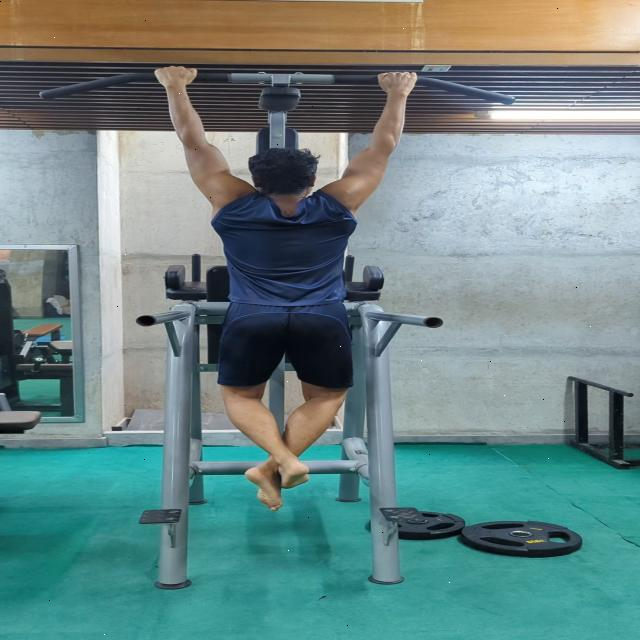Normal_PullUps: (145, 64, 424, 514)
